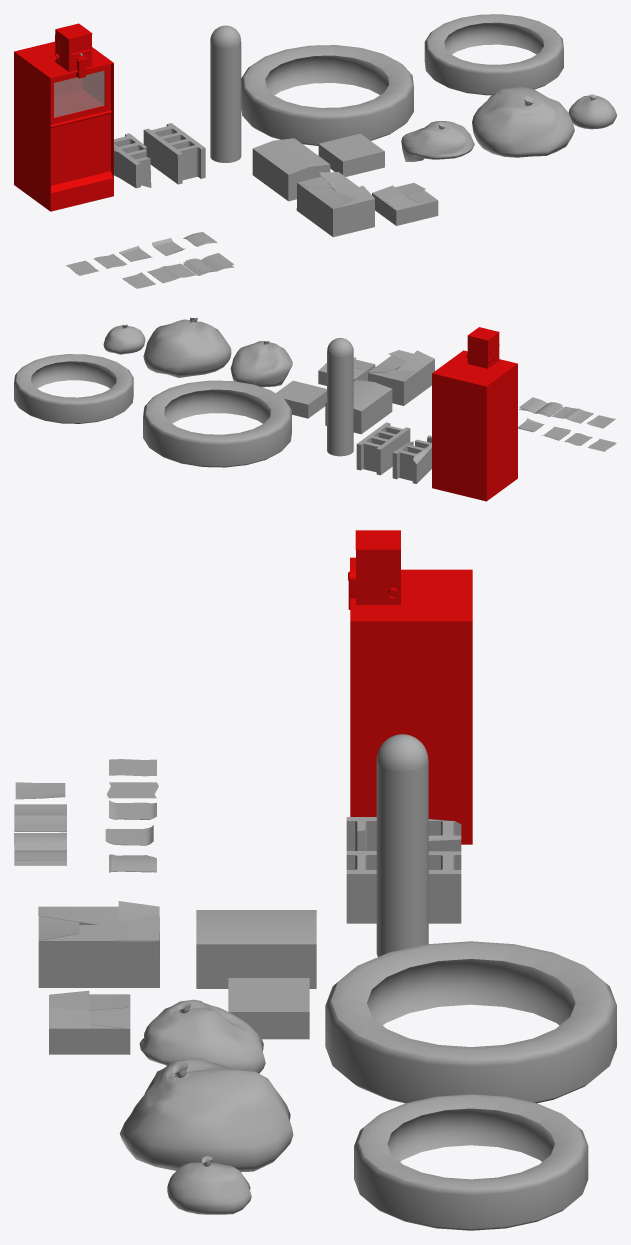
The model's file is Random Objects.fbx.
The picture shows the model from 3 angles, top to bottom: view 1: azimuth 30°, elevation 25°; view 2: azimuth 150°, elevation 25°; view 3: azimuth 270°, elevation 25°; orthographic projection. The views are drawn at different scales.
Visible parts, largest first — view 1: pCube25, Large_Tire, Small_Tire, Large_Trash_Bag, pCylinder8, LargeBox_Sealed, CinderBlock, Hanging_Trash_Bag, Large_Box_Open, SmallBox_Sealed, pCube30, CinderBlockBroken (+7 smaller); view 2: pCube25, Large_Tire, Small_Tire, Large_Trash_Bag, pCylinder8, Hanging_Trash_Bag, CinderBlock, LargeBox_Sealed, CinderBlockBroken, SmallBox_Sealed, Large_Box_Open, Small_Trash_Bag (+5 smaller); view 3: Large_Tire, pCube25, Small_Tire, Large_Trash_Bag, pCylinder8, LargeBox_Sealed, Hanging_Trash_Bag, Large_Box_Open, CinderBlock, SmallBox_Sealed, Small_Trash_Bag, Small_Box_Open (+7 smaller).
Boxes of the visible parts, box(x1,y1,x2,y2) form: pCube25: box(14, 41, 113, 211); Large_Tire: box(241, 45, 413, 145); Small_Tire: box(424, 14, 563, 95); Large_Trash_Bag: box(472, 86, 574, 157); pCylinder8: box(210, 25, 241, 162); LargeBox_Sealed: box(252, 138, 330, 201); CinderBlock: box(143, 123, 205, 184); Hanging_Trash_Bag: box(401, 121, 474, 161); Large_Box_Open: box(296, 183, 374, 237); SmallBox_Sealed: box(318, 133, 384, 176); pCube30: box(54, 70, 104, 117); CinderBlockBroken: box(114, 133, 151, 188); pCube25: box(432, 350, 517, 501); Large_Tire: box(143, 380, 291, 467); Small_Tire: box(14, 354, 133, 423); Large_Trash_Bag: box(143, 317, 231, 377); pCylinder8: box(327, 338, 353, 456); Hanging_Trash_Bag: box(230, 341, 292, 387); CinderBlock: box(356, 422, 410, 475); LargeBox_Sealed: box(325, 380, 392, 434); CinderBlockBroken: box(392, 435, 431, 483); SmallBox_Sealed: box(276, 380, 326, 418); Large_Box_Open: box(368, 359, 434, 405); Small_Trash_Bag: box(103, 324, 145, 354); Large_Tire: box(325, 941, 616, 1103); pCube25: box(350, 569, 472, 844); Small_Tire: box(354, 1094, 588, 1230); Large_Trash_Bag: box(119, 1058, 293, 1172); pCylinder8: box(376, 734, 428, 956); LargeBox_Sealed: box(196, 910, 316, 988); Hanging_Trash_Bag: box(139, 999, 265, 1073); Large_Box_Open: box(38, 917, 159, 987); CinderBlock: box(346, 851, 461, 923); SmallBox_Sealed: box(228, 978, 309, 1039); Small_Trash_Bag: box(167, 1156, 251, 1214); Small_Box_Open: box(49, 995, 130, 1054).
Size of the model in its own units: 29.39 by 8.54 by 15.7.
